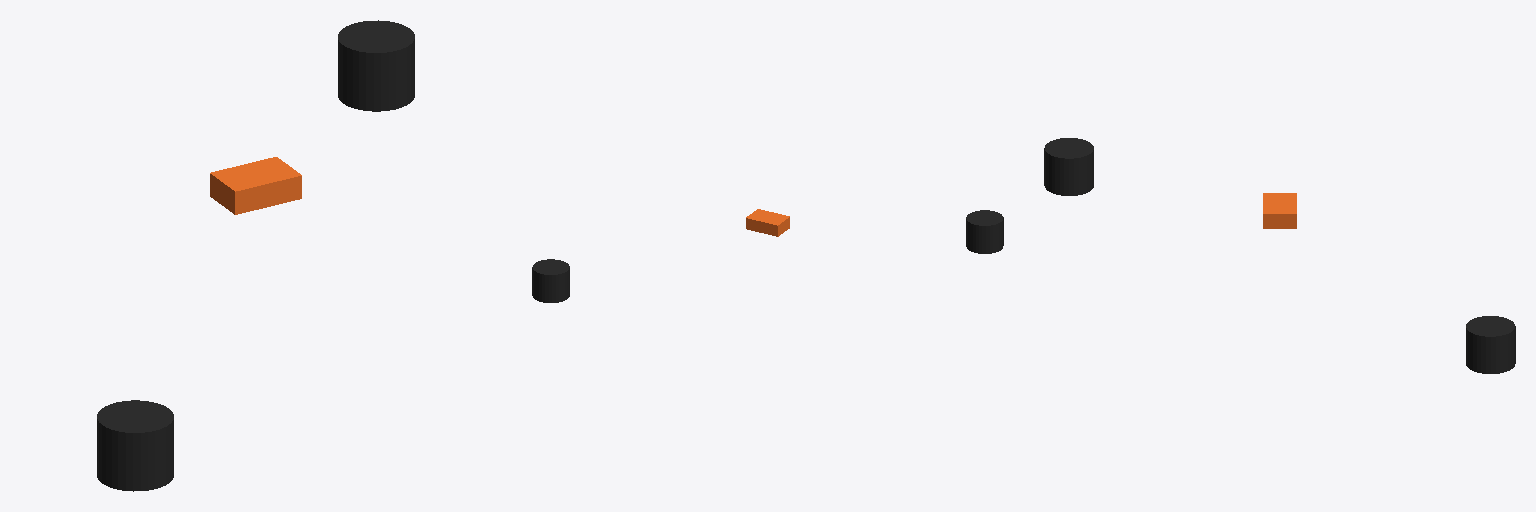
robot.urdf — cartographer_backpack_2d:
<!--
  Copyright 2016 The Cartographer Authors

  Licensed under the Apache License, Version 2.0 (the "License");
  you may not use this file except in compliance with the License.
  You may obtain a copy of the License at

       http://www.apache.org/licenses/LICENSE-2.0

  Unless required by applicable law or agreed to in writing, software
  distributed under the License is distributed on an "AS IS" BASIS,
  WITHOUT WARRANTIES OR CONDITIONS OF ANY KIND, either express or implied.
  See the License for the specific language governing permissions and
  limitations under the License.
-->

<robot name="cartographer_backpack_2d">
  <material name="orange">
    <color rgba="1.0 0.5 0.2 1" />
  </material>
  <material name="gray">
    <color rgba="0.2 0.2 0.2 1" />
  </material>

  <link name="imu_link">
    <visual>
      <origin xyz="0 0 0" />
      <geometry>
        <box size="0.06 0.04 0.02" />
      </geometry>
      <material name="orange" />
    </visual>
  </link>

  <link name="lidarf_link">
    <visual>
      <origin xyz="0 0 0" />
      <geometry>
        <cylinder length="0.05" radius="0.03" />
      </geometry>
      <material name="gray" />
    </visual>
  </link>

  <link name="lidarb_link">
    <visual>
      <origin xyz="0 0 0" />
      <geometry>
        <cylinder length="0.05" radius="0.03" />
      </geometry>
      <material name="gray" />
    </visual>
  </link>

  <link name="base_link" />

  <joint name="imu_link_joint" type="fixed">
    <parent link="base_link" />
    <child link="imu_link" />
    <origin xyz="0.0 0 0.06" rpy="0 0 0"/>
  </joint>

  <joint name="lidarf_joint" type="fixed">
    <origin
      xyz="0.255 0.255 0"
      rpy="0 0 0" />
    <parent
      link="base_link" />
    <child
      link="lidarf_link" />
    <axis
      xyz="0 0 0" />
  </joint>

  <joint name="lidarb_joint" type="fixed">
    <origin
      xyz="-0.255 -0.255 0"
      rpy="0 0 0" />
    <parent
      link="base_link" />
    <child
      link="lidarb_link" />
    <axis
      xyz="0 0 0" />
  </joint>
  
</robot>

--- Facts derived from the render (not from the file) ---
The picture shows the robot from 3 angles, left to right: view 1: azimuth 30°, elevation 25°; view 2: azimuth 150°, elevation 25°; view 3: azimuth 270°, elevation 25°; orthographic projection.
Model cartographer_backpack_2d with 4 links and 3 joints (3 fixed), rooted at base_link, posed all joints at 0.
Visible links, largest first — view 1: lidarf_link, lidarb_link, imu_link; view 2: lidarf_link, lidarb_link, imu_link; view 3: lidarf_link, lidarb_link, imu_link.
Boxes of the visible links, x1=… form: lidarf_link: x1=338, y1=20, x2=414, y2=111; lidarb_link: x1=97, y1=400, x2=173, y2=491; imu_link: x1=210, y1=157, x2=301, y2=214; lidarf_link: x1=532, y1=259, x2=569, y2=302; lidarb_link: x1=966, y1=210, x2=1003, y2=253; imu_link: x1=746, y1=209, x2=789, y2=236; lidarf_link: x1=1466, y1=316, x2=1515, y2=373; lidarb_link: x1=1044, y1=138, x2=1093, y2=195; imu_link: x1=1263, y1=193, x2=1296, y2=228.
Size in the robot's own frame: 0.57 by 0.57 by 0.095 metres.
Geometry: primitives only (box / cylinder / sphere), no mesh files.
